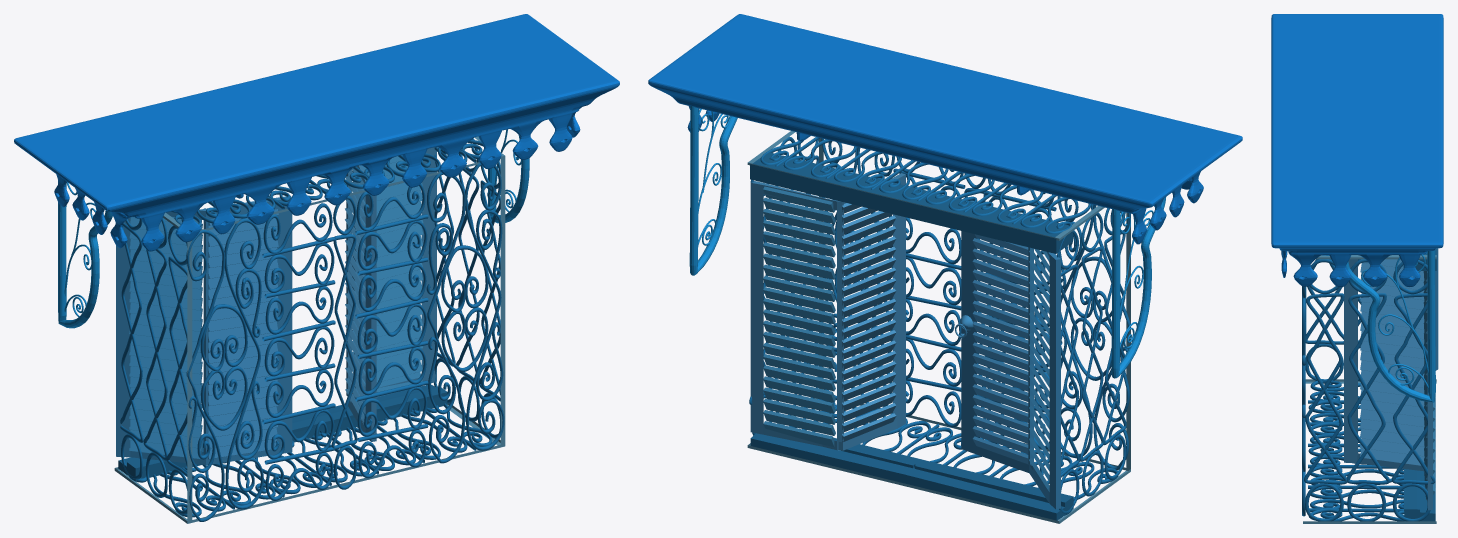
The model's file is rs_window.glb.
The picture shows the model from 3 angles, left to right: view 1: azimuth 30°, elevation 25°; view 2: azimuth 150°, elevation 25°; view 3: azimuth 270°, elevation 25°; orthographic projection. The views are drawn at different scales.
Parts seen in each view (by area): view 1: Cube.047_4, BezierCurve.003_16, Cube.040_8, Cube.038_10, Cube.043_5, Cube.039_9, Cube.053_3, Cube.042_6, Cube.054_2, Cube.041_7, BezierCurve.001_14, BezierCurve.002_15; view 2: Cube.047_4, BezierCurve.003_16, Cube.043_5, Cube.038_10, Cube.041_7, Cube.042_6, Cube.055_1, Cube.054_2, Cube.039_9, Cube.053_3, BezierCurve.002_15, BezierCurve.001_14 (+1 smaller); view 3: Cube.047_4, BezierCurve.003_16, Cube.041_7, BezierCurve.002_15, Cube.042_6, Cube.054_2, Cube.043_5, Cube.053_3, Cube.039_9.
Part boxes in pixels (<box>): Cube.047_4: <box>14,14,619,251</box>; BezierCurve.003_16: <box>120,138,504,521</box>; Cube.040_8: <box>129,216,202,459</box>; Cube.038_10: <box>208,209,278,459</box>; Cube.043_5: <box>352,156,423,397</box>; Cube.039_9: <box>116,196,292,465</box>; Cube.053_3: <box>114,136,505,523</box>; Cube.042_6: <box>346,147,436,441</box>; Cube.054_2: <box>118,384,447,481</box>; Cube.041_7: <box>345,168,365,422</box>; BezierCurve.001_14: <box>58,180,112,328</box>; BezierCurve.002_15: <box>488,129,529,223</box>; Cube.047_4: <box>648,14,1242,244</box>; BezierCurve.003_16: <box>749,136,1130,515</box>; Cube.043_5: <box>763,186,835,446</box>; Cube.038_10: <box>972,234,1031,465</box>; Cube.041_7: <box>842,203,896,442</box>; Cube.042_6: <box>750,173,905,450</box>; Cube.055_1: <box>750,152,1072,253</box>; Cube.054_2: <box>750,421,1073,520</box>; Cube.039_9: <box>961,198,1060,509</box>; Cube.053_3: <box>747,131,1130,523</box>; BezierCurve.002_15: <box>689,106,737,275</box>; BezierCurve.001_14: <box>1111,197,1165,378</box>; Cube.047_4: <box>1271,14,1443,286</box>; BezierCurve.003_16: <box>1302,251,1435,521</box>; Cube.041_7: <box>1360,259,1424,465</box>; BezierCurve.002_15: <box>1346,249,1435,402</box>; Cube.042_6: <box>1344,259,1432,510</box>; Cube.054_2: <box>1404,395,1435,521</box>; Cube.043_5: <box>1423,271,1435,500</box>; Cube.053_3: <box>1303,255,1436,523</box>; Cube.039_9: <box>1435,248,1438,370</box>.
Size of the model in its own units: 19.72 by 13.11 by 6.22.
